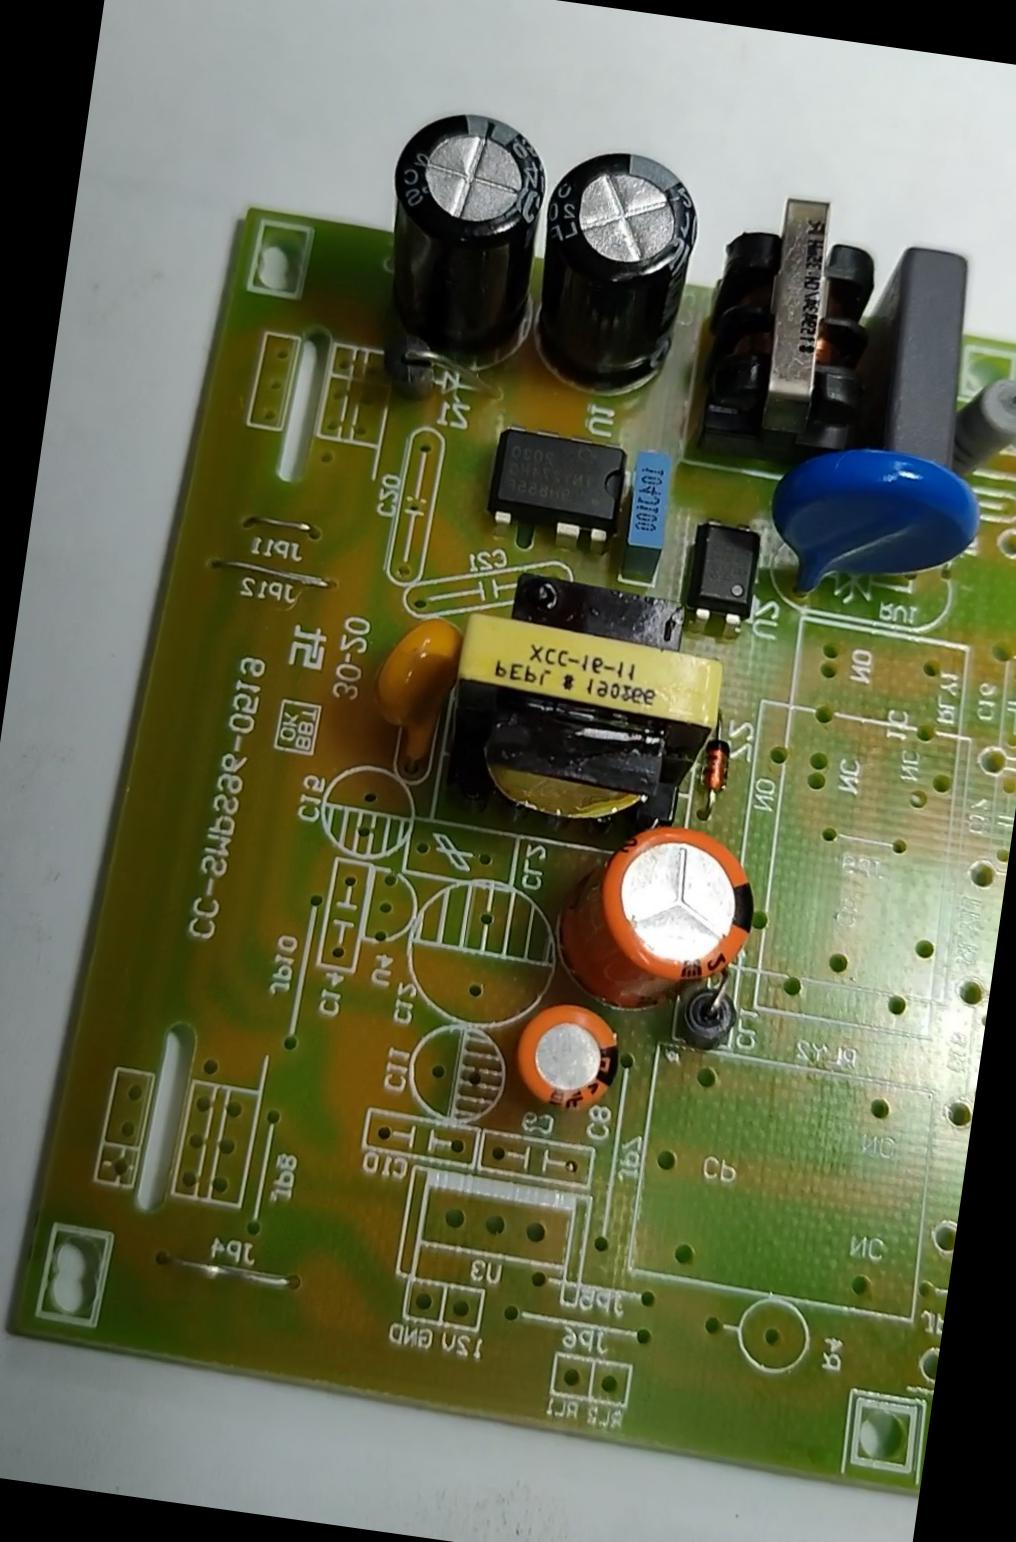Cap1: (553, 813, 767, 1025)
Cap2: (511, 998, 625, 1118)
Cap3: (522, 134, 712, 405)
Cap4: (370, 102, 562, 375)
MOSFET: (485, 423, 633, 542)
Mov: (754, 434, 991, 620)
Resistor: (952, 363, 1015, 483)
Transformer: (433, 561, 738, 850), (693, 178, 894, 475)
